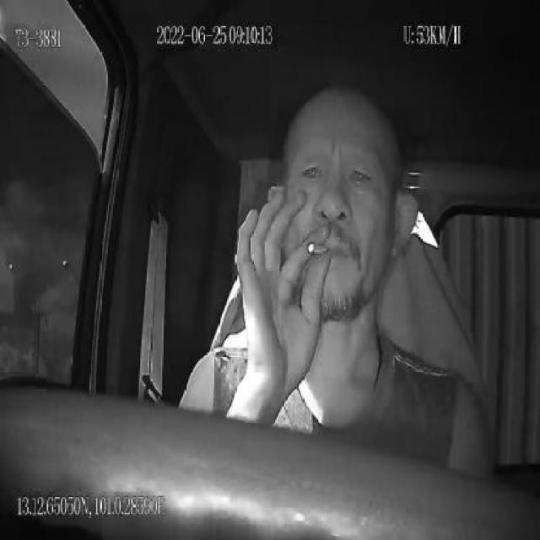smoking: (308, 240, 329, 254)
